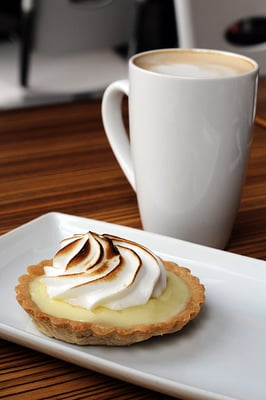pizza: (100, 47, 260, 250)
